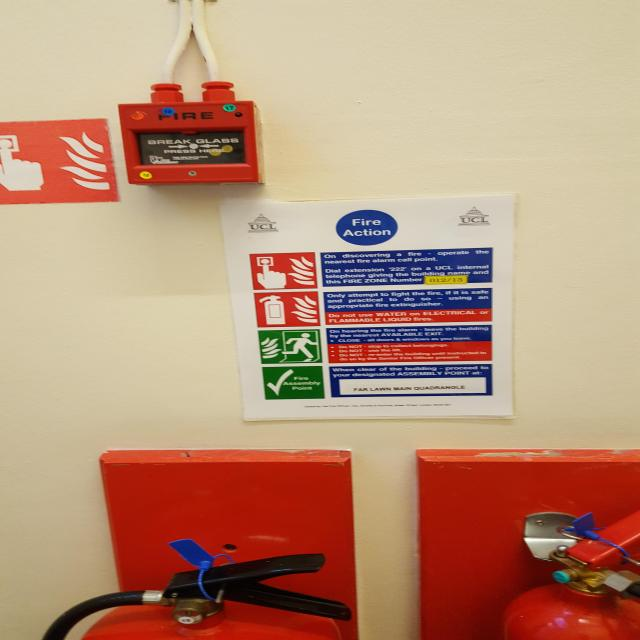fire_extinguisher: (26, 536, 375, 640), (483, 503, 640, 640)
